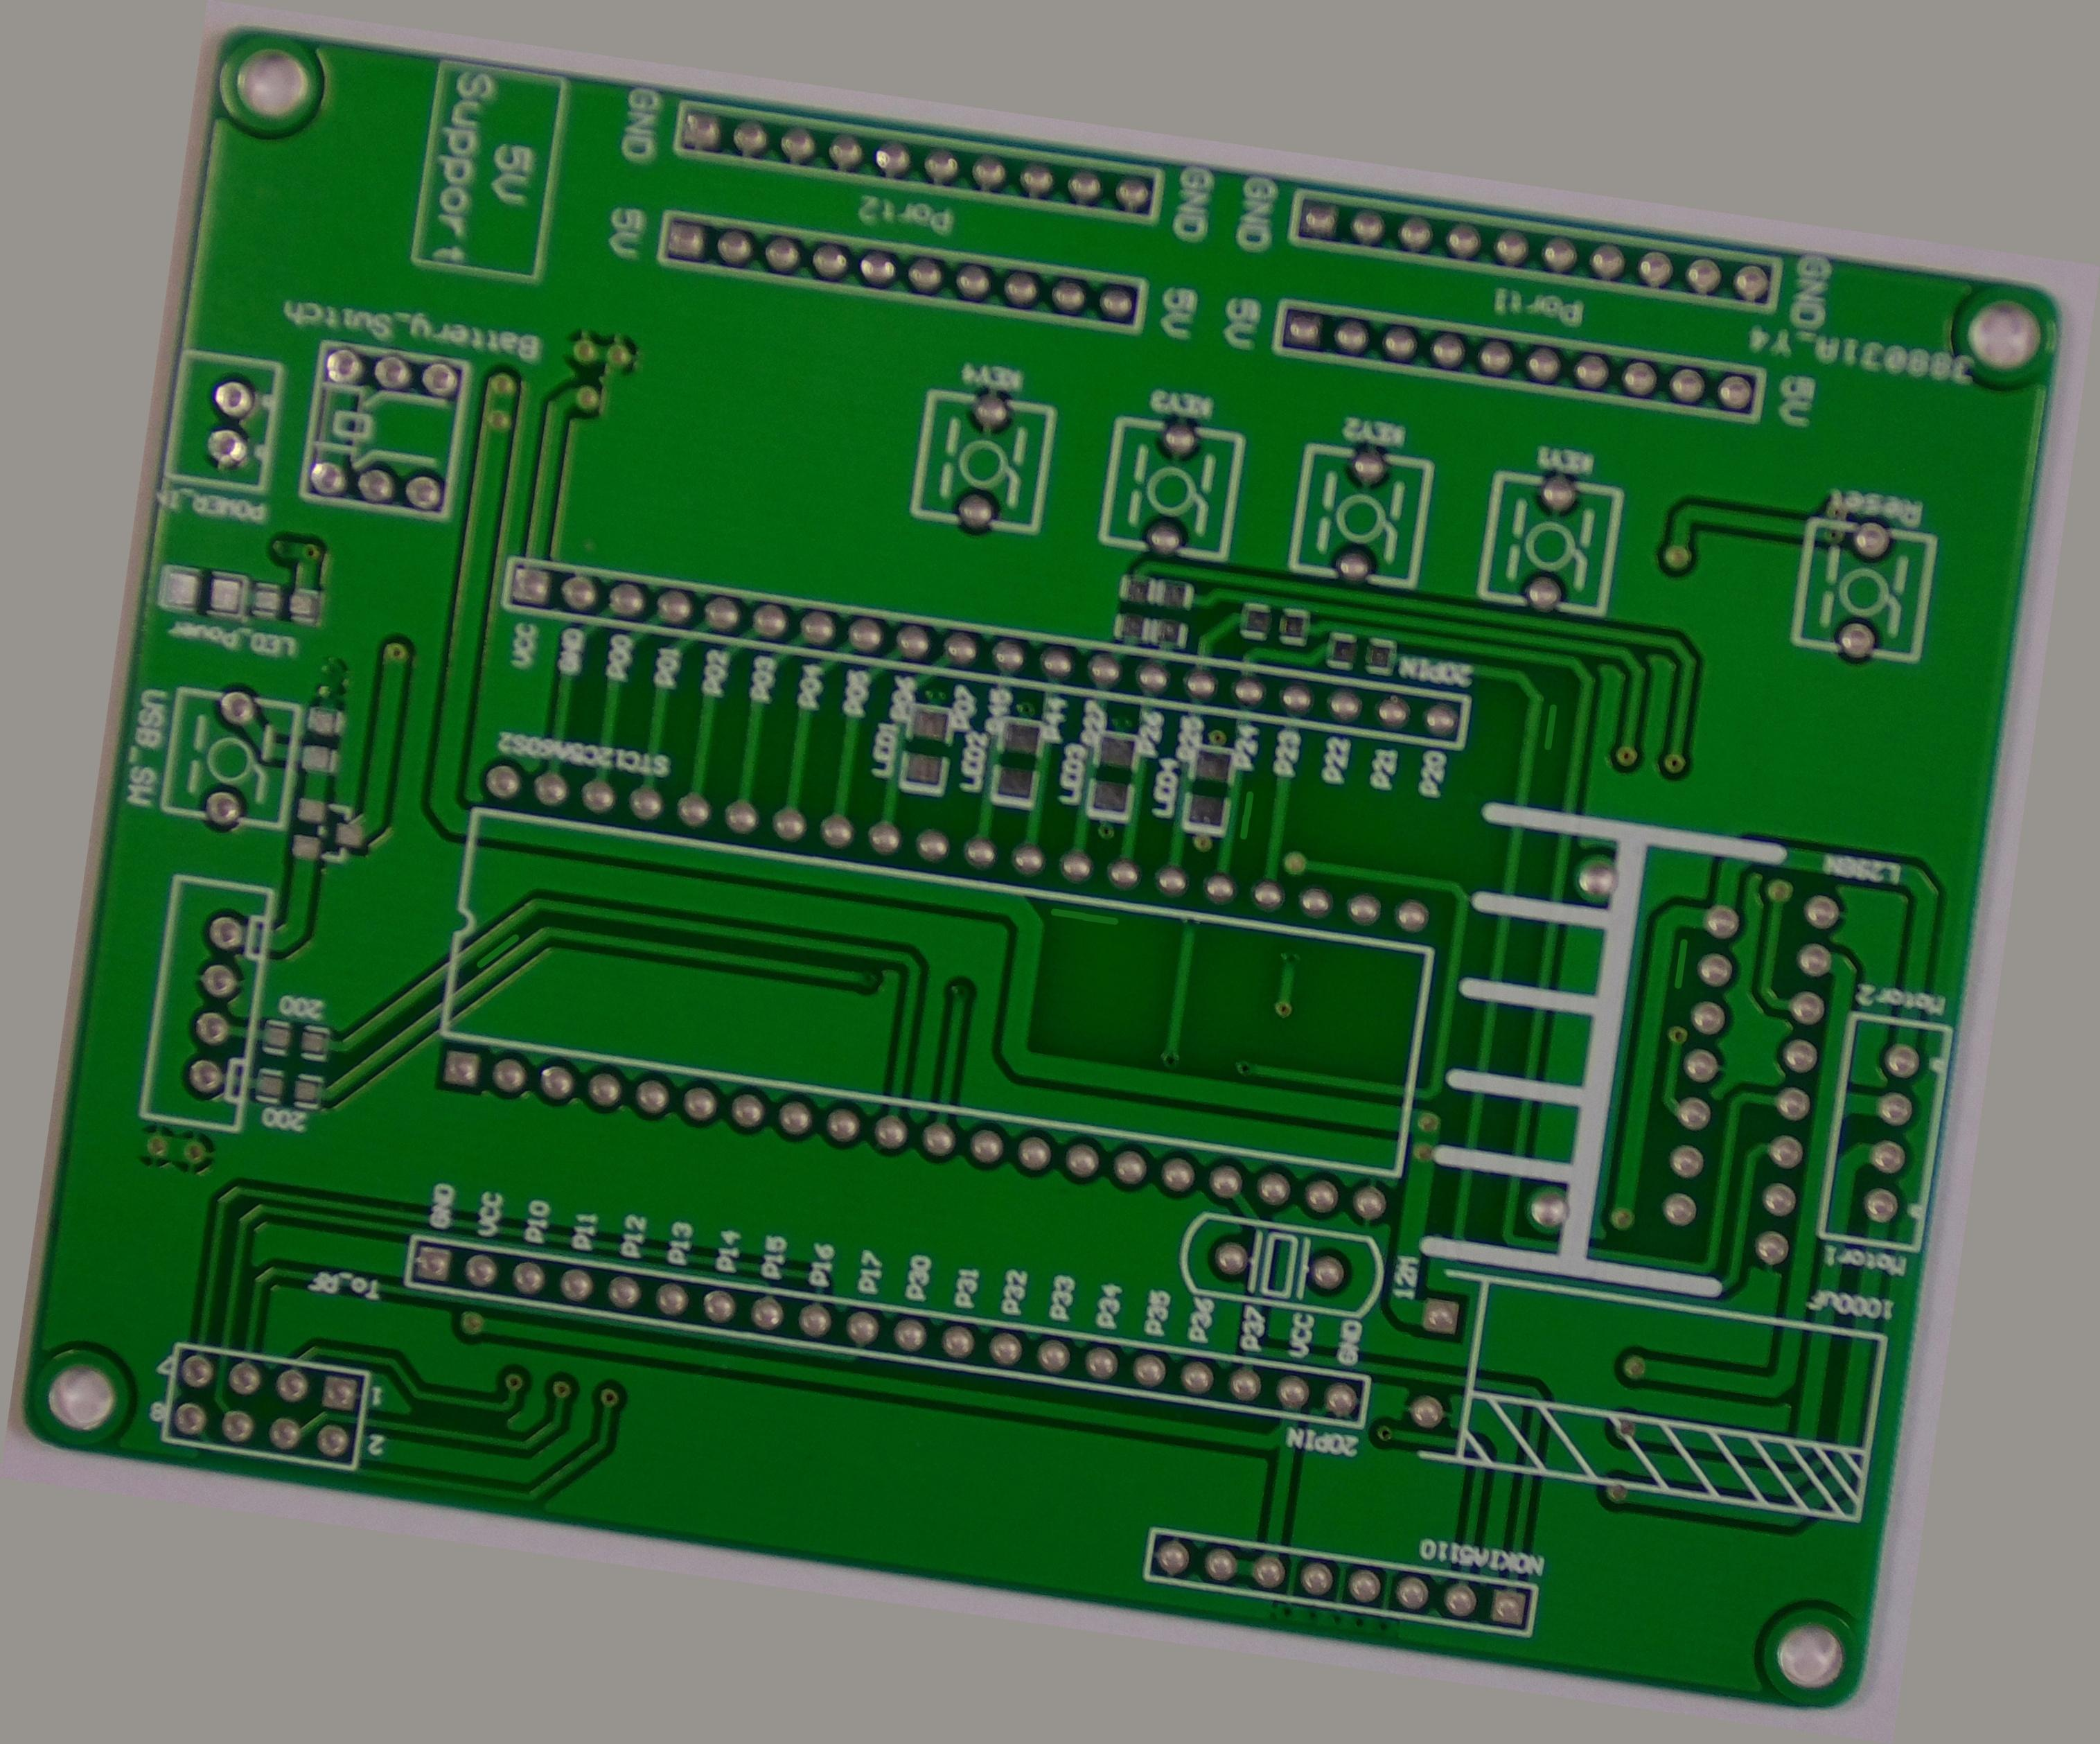spurious_copper: (422, 1018, 509, 1083), (1048, 895, 1144, 944), (1549, 579, 1598, 661), (1725, 827, 1770, 914), (1237, 736, 1277, 816)
